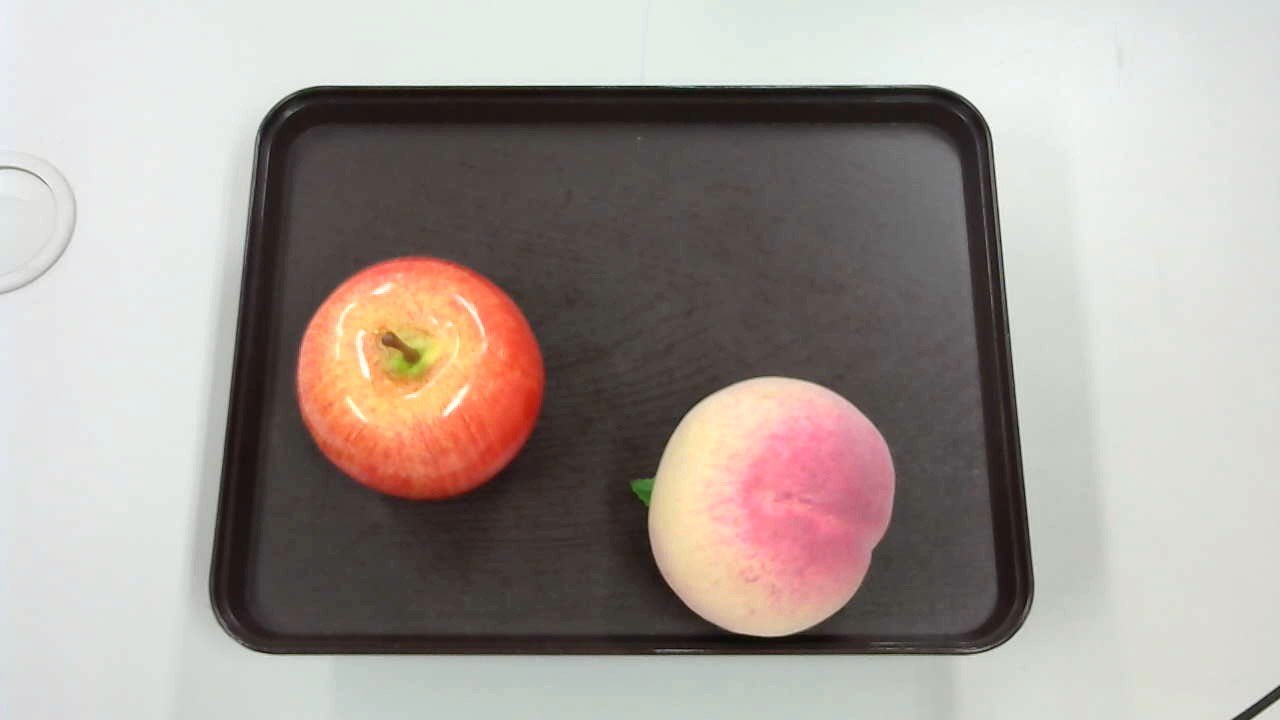peach: (628, 372, 898, 635)
red apple: (286, 249, 556, 507)
